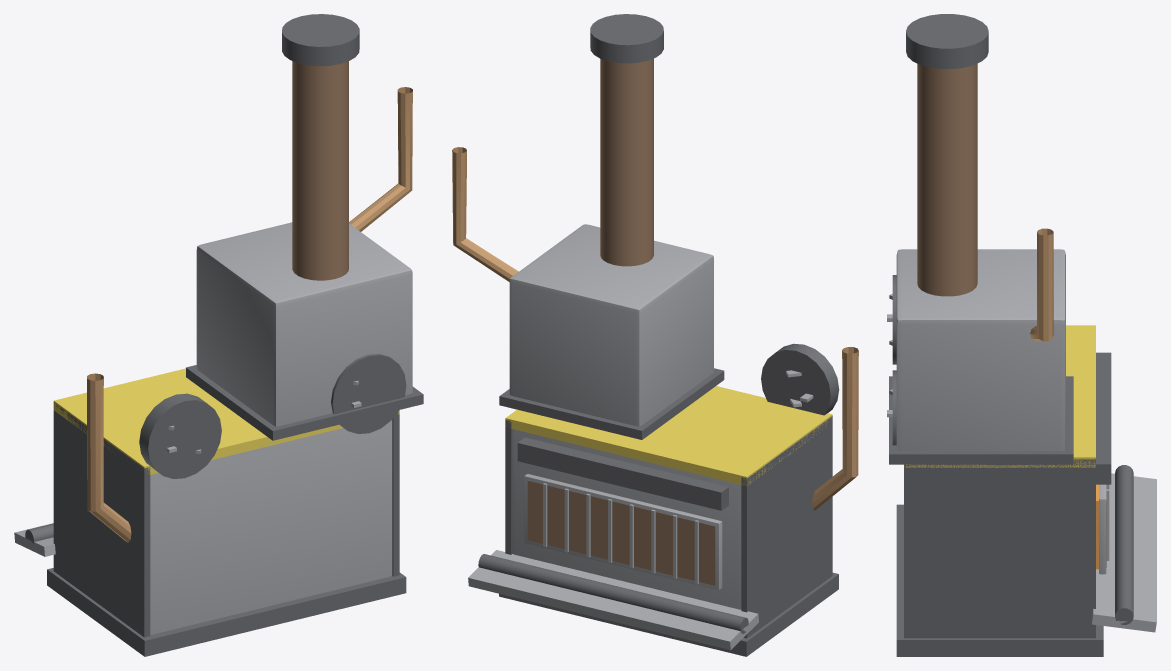
File: DD_furnace_large.fbx
The picture shows the model from 3 angles, left to right: view 1: azimuth 30°, elevation 25°; view 2: azimuth 150°, elevation 25°; view 3: azimuth 270°, elevation 25°; orthographic projection. The views are drawn at different scales.
Parts seen in each view (by area): view 1: DD_furnace_large; view 2: DD_furnace_large; view 3: DD_furnace_large.
Boxes of the visible parts, <box> form: DD_furnace_large: <box>14,14,423,656</box>; DD_furnace_large: <box>452,14,858,656</box>; DD_furnace_large: <box>887,14,1156,656</box>.
Size of the model in its own units: 2.44 by 3.48 by 1.43.
